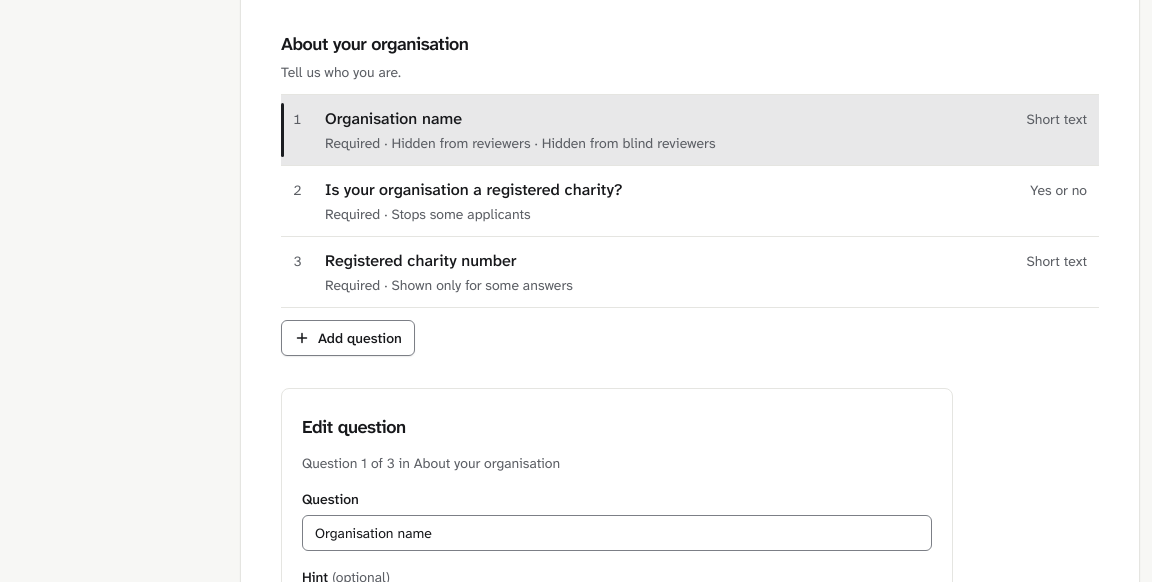
Test: what the server refuses › is shown beside the box it names, in the server's words, and goes when the draft is edited
The width and height of the screenshot is (1152, 582).
(page scrolled)
Click the button that starts with "Registered charity number": click(421, 260) [281,237,1099,307]
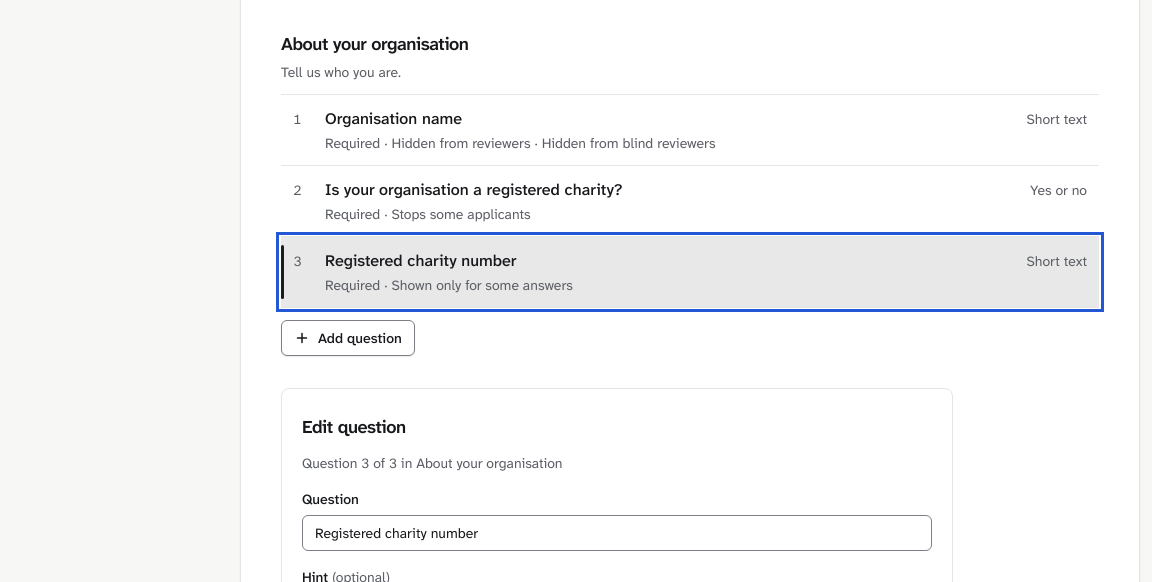
In the field labelled "Question": (617, 533) [302,515,932,551], type "!"
(page scrolled)
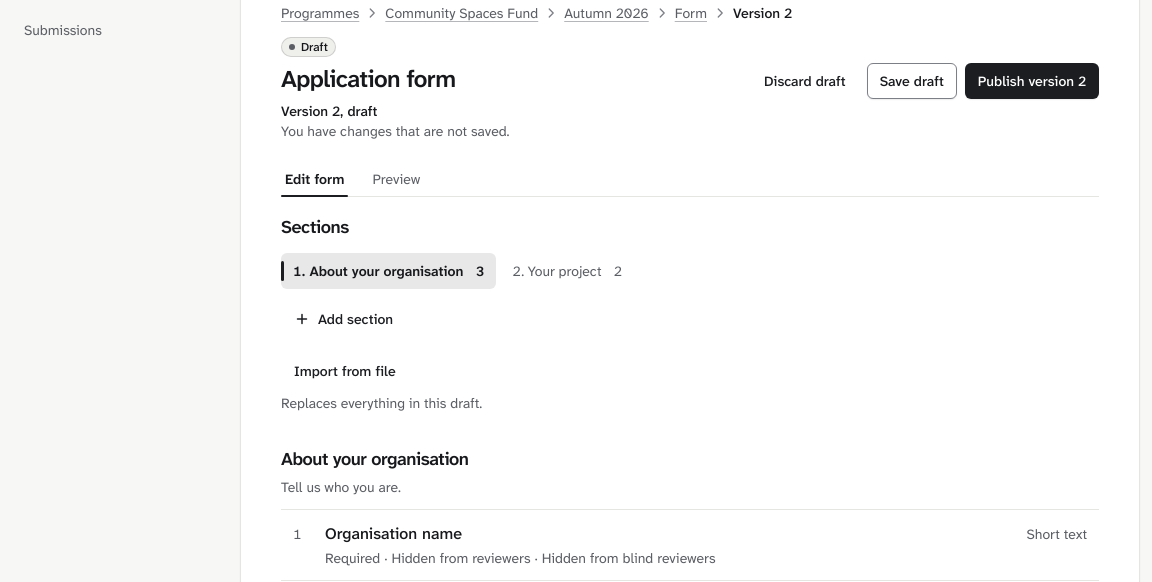
Click the button "Save draft": click(912, 81) [867,63,957,99]
(page scrolled)
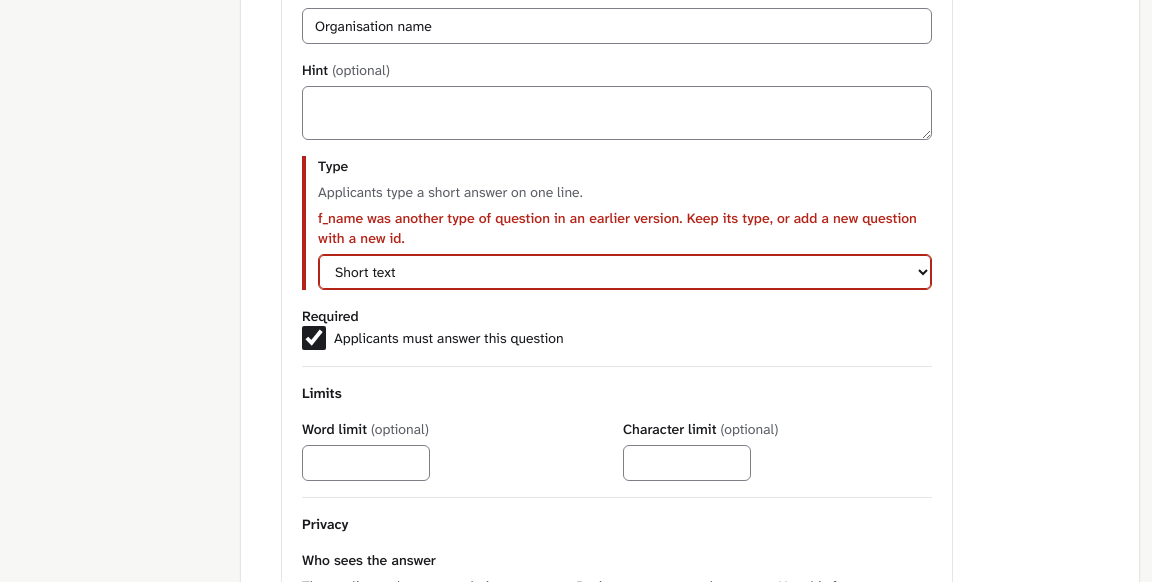
Check: the text "f_name was another type of question in an earlier version. Keep its type, or add a new question with a new id." is shown, box [318,209,917,247]
Select "Date" in the dropdown labelled "Type": (625, 272) [318,254,932,290]
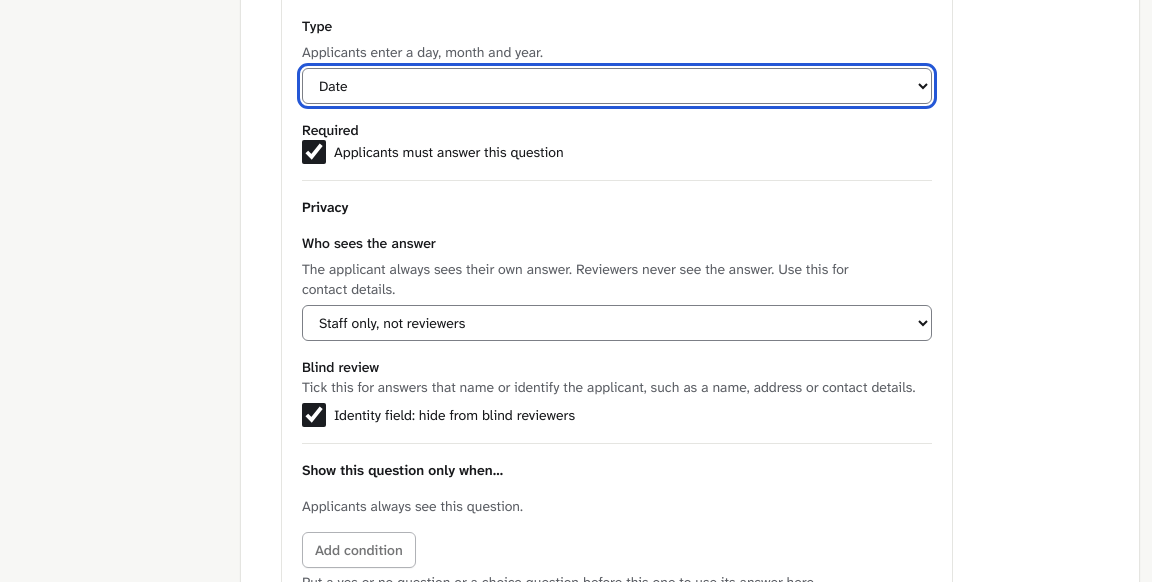
Check: the text "f_name was another type of question in an earlier version. Keep its type, or add a new question with a new id." is gone
